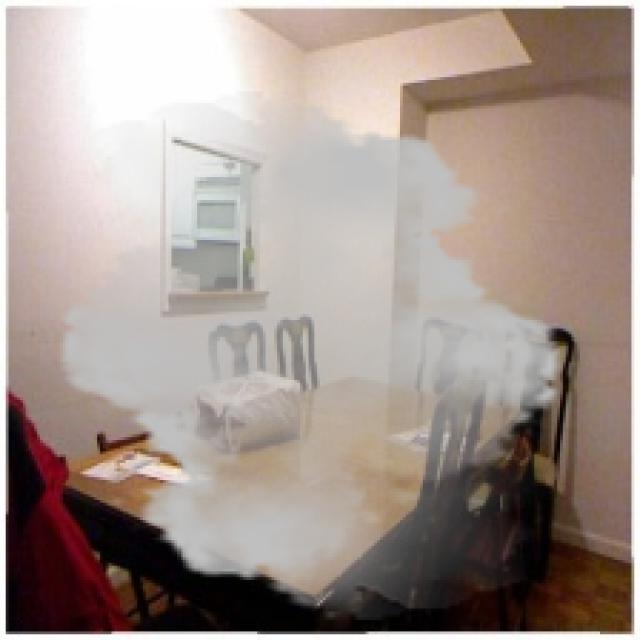smoke: (37, 91, 583, 620)
